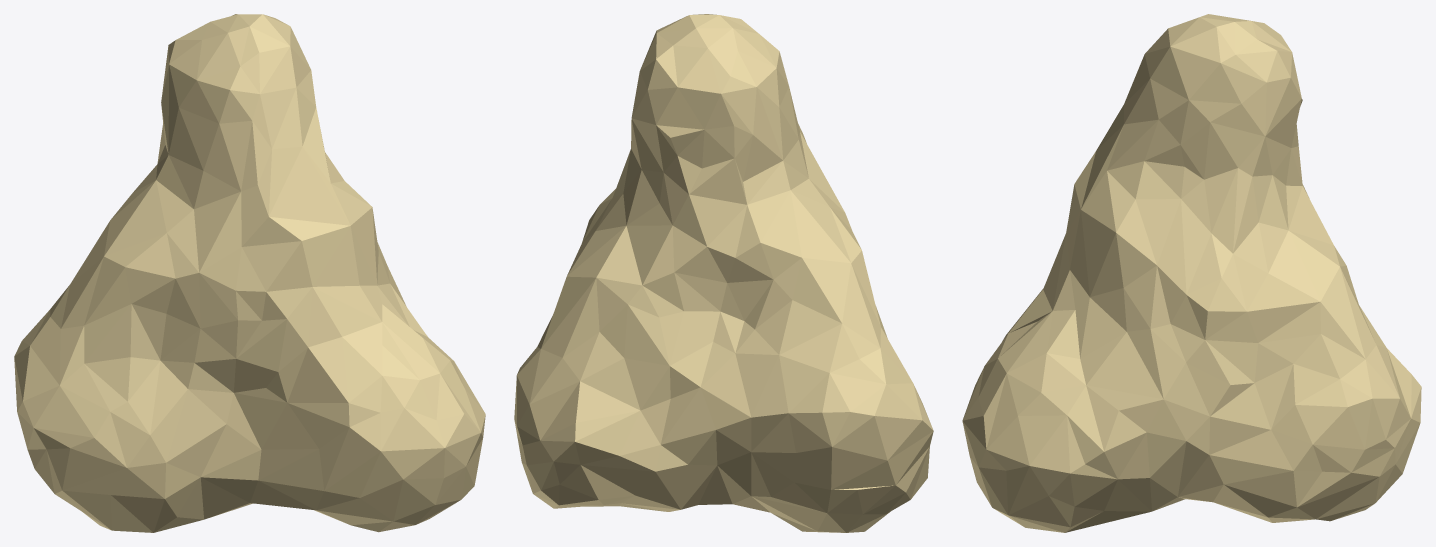
File: Asteroid (2).fbx
The picture shows the model from 3 angles, left to right: view 1: azimuth 30°, elevation 25°; view 2: azimuth 150°, elevation 25°; view 3: azimuth 270°, elevation 25°; orthographic projection. The views are drawn at different scales.
Parts seen in each view (by area): view 1: Asteroid128; view 2: Asteroid128; view 3: Asteroid128.
Part boxes in pixels (x1=…): Asteroid128: x1=14, y1=14, x2=485, y2=532; Asteroid128: x1=514, y1=14, x2=933, y2=532; Asteroid128: x1=962, y1=14, x2=1421, y2=532.
Bounding box in the file's own units: 192 × 232 × 202.
